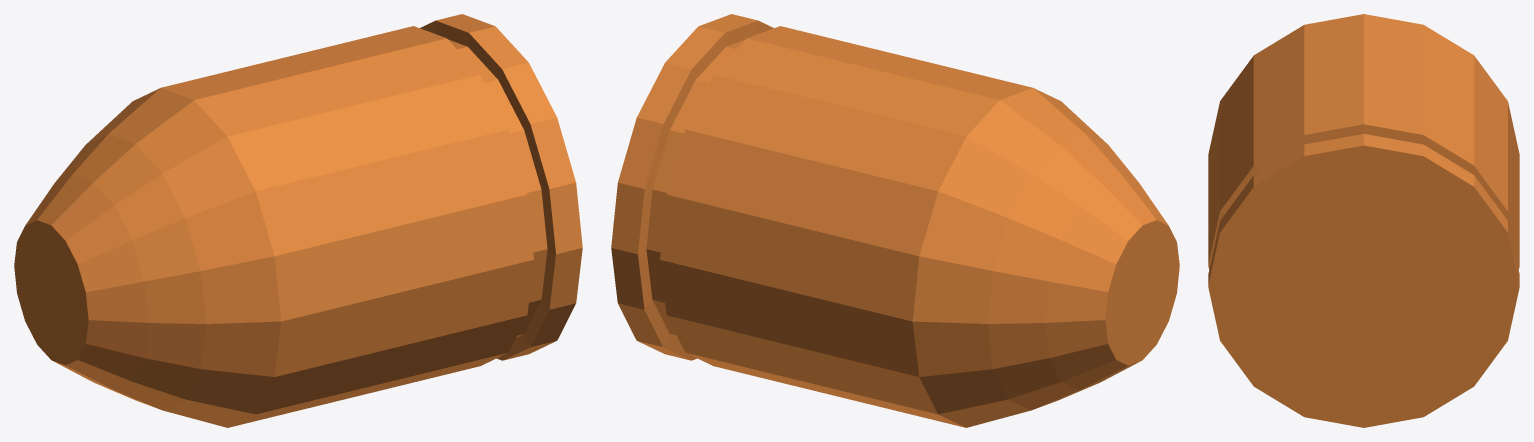
File: lowpoly_pistols_bullet.fbx
The picture shows the model from 3 angles, left to right: view 1: azimuth 30°, elevation 25°; view 2: azimuth 150°, elevation 25°; view 3: azimuth 270°, elevation 25°; orthographic projection. The views are drawn at different scales.
Parts seen in each view (by area): view 1: mermi; view 2: mermi; view 3: mermi.
Boxes of the visible parts, bbox=[...] form: mermi: bbox=[14, 14, 582, 427]; mermi: bbox=[611, 14, 1179, 427]; mermi: bbox=[1208, 14, 1519, 427].
Bounding box in the file's own units: 62.38 × 42.34 × 42.31.
